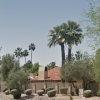Tree: (59, 21, 95, 79)
